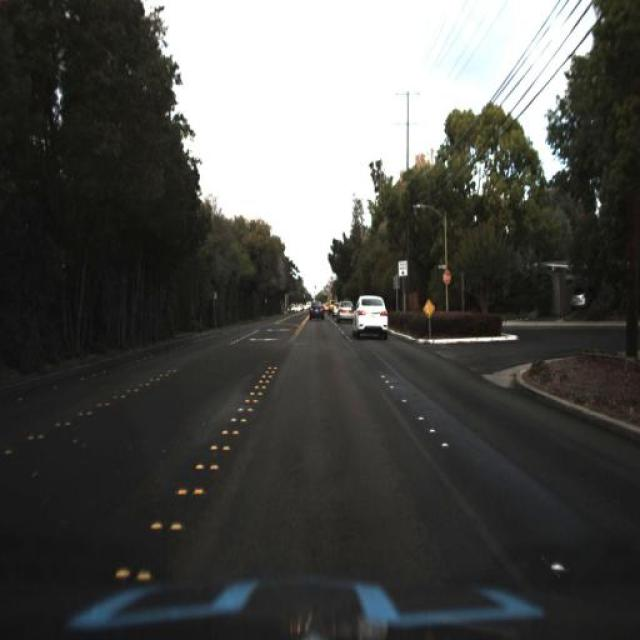car: (351, 293, 392, 343), (568, 275, 592, 316), (335, 298, 359, 328), (306, 296, 326, 325)
